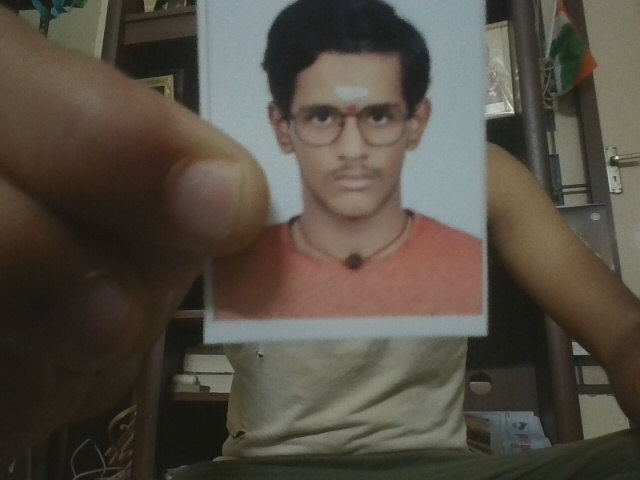fake: (264, 52, 438, 226)
